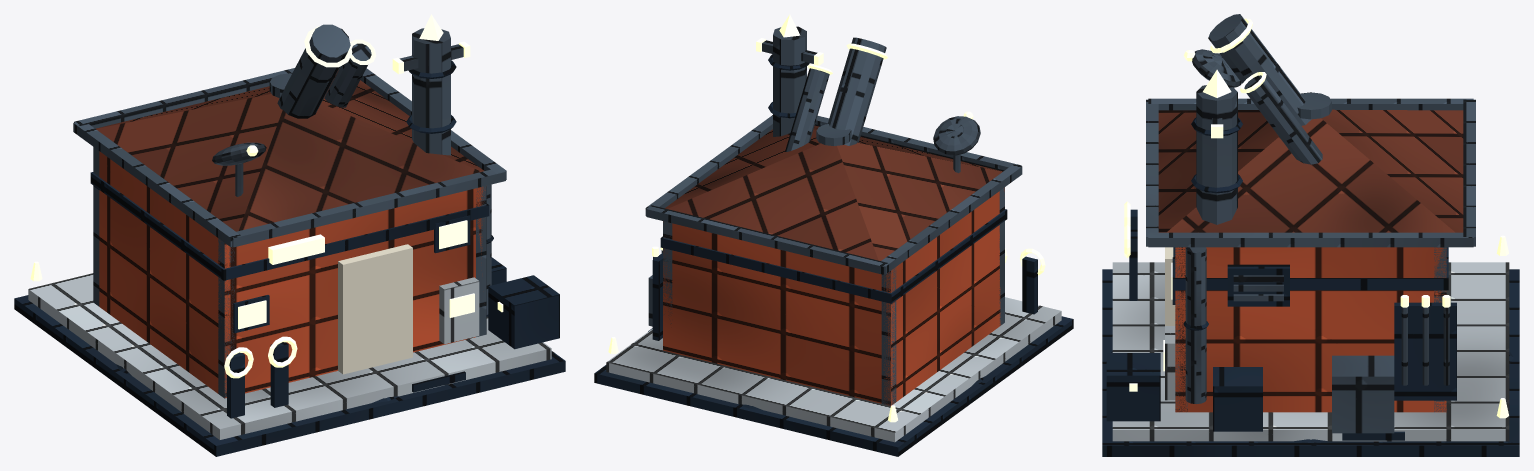
The model's file is NovaArsenal.fbx.
3 views of the same model, side by side, from view 1: azimuth 30°, elevation 25°; view 2: azimuth 150°, elevation 25°; view 3: azimuth 270°, elevation 25° (orthographic). The views are drawn at different scales.
Parts seen in each view (by area): view 1: Nova_Block, Nova_Roof, Nova_Tier, Nova_Plinth, Nova_Door, Nova_Band, Nova_PlatformCrate, Nova_Eave_01, Nova_Spire, Nova_Barrel, Nova_Eave_03, Nova_Eave_02 (+13 smaller); view 2: Nova_Block, Nova_Roof, Nova_Tier, Nova_Plinth, Nova_Band, Nova_Barrel, Nova_Eave_02, Nova_Spire, Nova_Eave_03, Nova_Pilaster_02, Nova_Barrel2, Nova_Eave_04 (+7 smaller); view 3: Nova_Roof, Nova_Block, Nova_Tier, Nova_Plinth, Nova_Eave_04, Nova_Crate, Nova_Rack, Nova_Spire, Nova_PlatformCrate, Nova_Barrel, Nova_VPipe, Nova_Crate2 (+18 smaller).
Boxes of the visible parts, left/top/right/bottom form: Nova_Block: left=99, top=151, right=485, bottom=397; Nova_Roof: left=95, top=70, right=484, bottom=231; Nova_Tier: left=28, top=273, right=551, bottom=439; Nova_Plinth: left=14, top=295, right=565, bottom=456; Nova_Door: left=338, top=244, right=412, bottom=374; Nova_Band: left=90, top=172, right=489, bottom=280; Nova_PlatformCrate: left=488, top=275, right=559, bottom=349; Nova_Eave_01: left=232, top=169, right=505, bottom=247; Nova_Spire: left=412, top=28, right=450, bottom=155; Nova_Barrel: left=277, top=24, right=350, bottom=118; Nova_Eave_03: left=73, top=122, right=240, bottom=246; Nova_Eave_02: left=74, top=66, right=340, bottom=128; Nova_Block: left=663, top=188, right=1004, bottom=405; Nova_Roof: left=665, top=125, right=1002, bottom=260; Nova_Tier: left=606, top=297, right=1061, bottom=442; Nova_Plinth: left=594, top=316, right=1073, bottom=456; Nova_Band: left=660, top=209, right=1007, bottom=303; Nova_Barrel: left=827, top=37, right=886, bottom=145; Nova_Eave_02: left=646, top=205, right=887, bottom=274; Nova_Spire: left=773, top=26, right=806, bottom=136; Nova_Eave_03: left=881, top=164, right=1022, bottom=274; Nova_Pilaster_02: left=881, top=267, right=896, bottom=405; Nova_Barrel2: left=785, top=68, right=829, bottom=151; Nova_Eave_04: left=645, top=115, right=772, bottom=215; Nova_Roof: left=1158, top=109, right=1463, bottom=232; Nova_Block: left=1175, top=247, right=1446, bottom=412; Nova_Tier: left=1112, top=262, right=1509, bottom=441; Nova_Plinth: left=1102, top=269, right=1519, bottom=456; Nova_Eave_04: left=1148, top=232, right=1473, bottom=247; Nova_Crate: left=1332, top=355, right=1394, bottom=433; Nova_Rack: left=1394, top=302, right=1456, bottom=400; Nova_Spire: left=1196, top=85, right=1237, bottom=224; Nova_PlatformCrate: left=1106, top=353, right=1160, bottom=421; Nova_Barrel: left=1208, top=14, right=1311, bottom=125; Nova_VPipe: left=1185, top=247, right=1206, bottom=403; Nova_Crate2: left=1213, top=367, right=1262, bottom=431.
Bounding box in the file's own units: 2 × 1.86 × 2.
